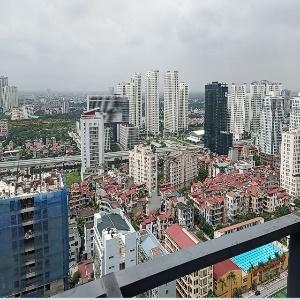drone: (76, 76, 149, 149)
